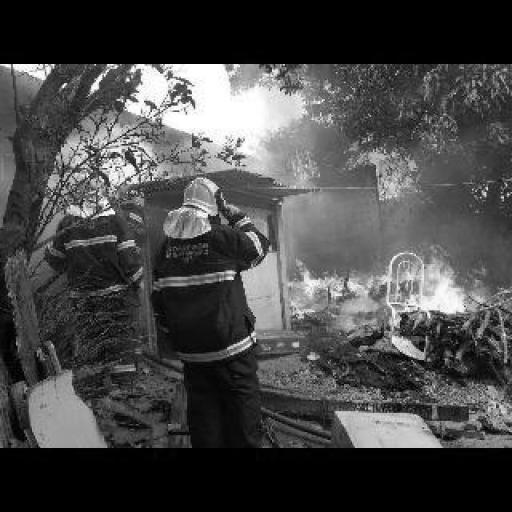smoke: (373, 242, 488, 331), (284, 256, 370, 320)
